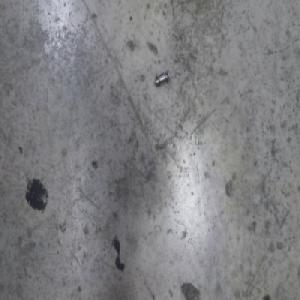Bolt: (154, 68, 170, 87)
